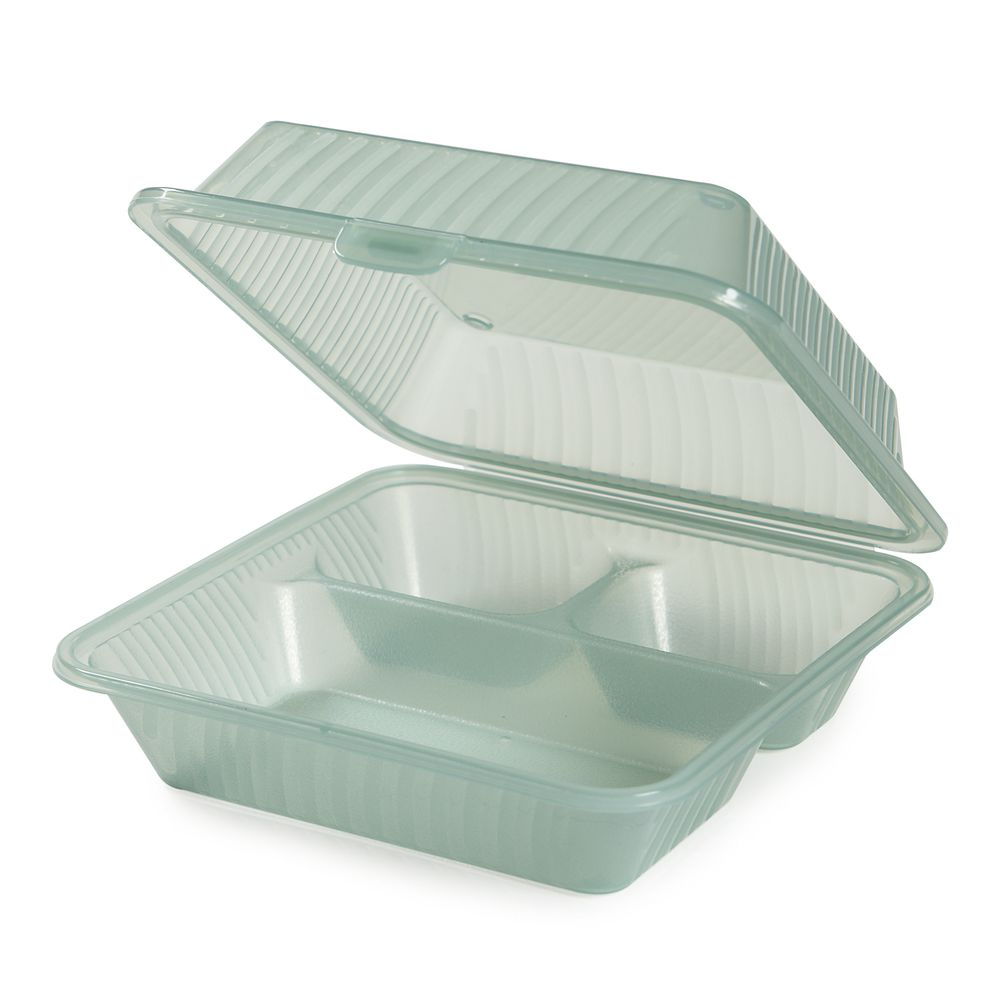PlasticBox: (46, 116, 951, 900)
